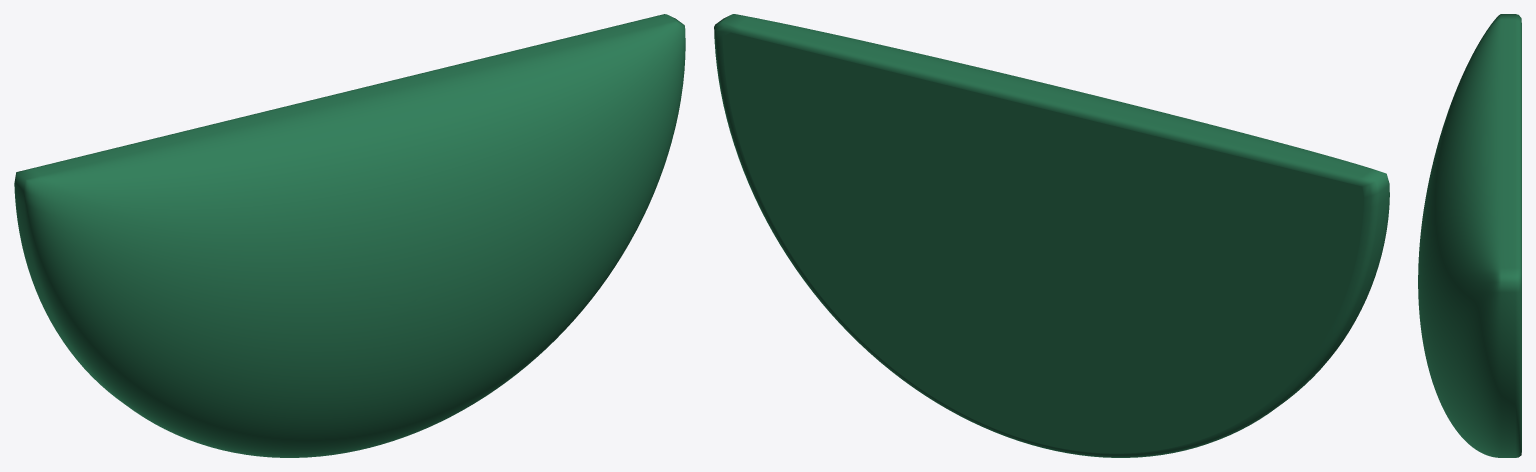
Rendered from half-oval.glb.
3 renders of one model, left to right at view 1: azimuth 30°, elevation 25°; view 2: azimuth 150°, elevation 25°; view 3: azimuth 270°, elevation 25°, orthographic. The views are drawn at different scales.
Visible parts, largest first — view 1: Half-Oval Cabochon 12x24x4mm; view 2: Half-Oval Cabochon 12x24x4mm; view 3: Half-Oval Cabochon 12x24x4mm.
Part boxes in pixels (x1,y1,x2,y2): Half-Oval Cabochon 12x24x4mm: (14,14,685,457); Half-Oval Cabochon 12x24x4mm: (714,14,1389,457); Half-Oval Cabochon 12x24x4mm: (1418,14,1521,457).
Size of the model in its own units: 0.024 by 0.012 by 0.00398.
